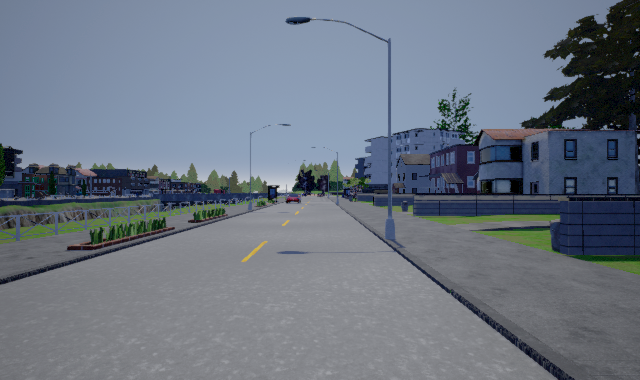vehicle: (286, 192, 301, 204)
